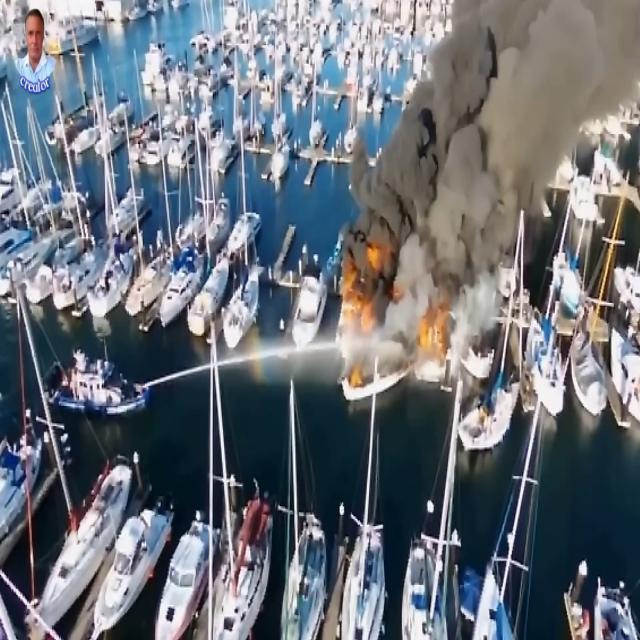Fire: (342, 274, 376, 330), (420, 306, 449, 353)
Smoke: (452, 0, 533, 178), (372, 133, 445, 243)
